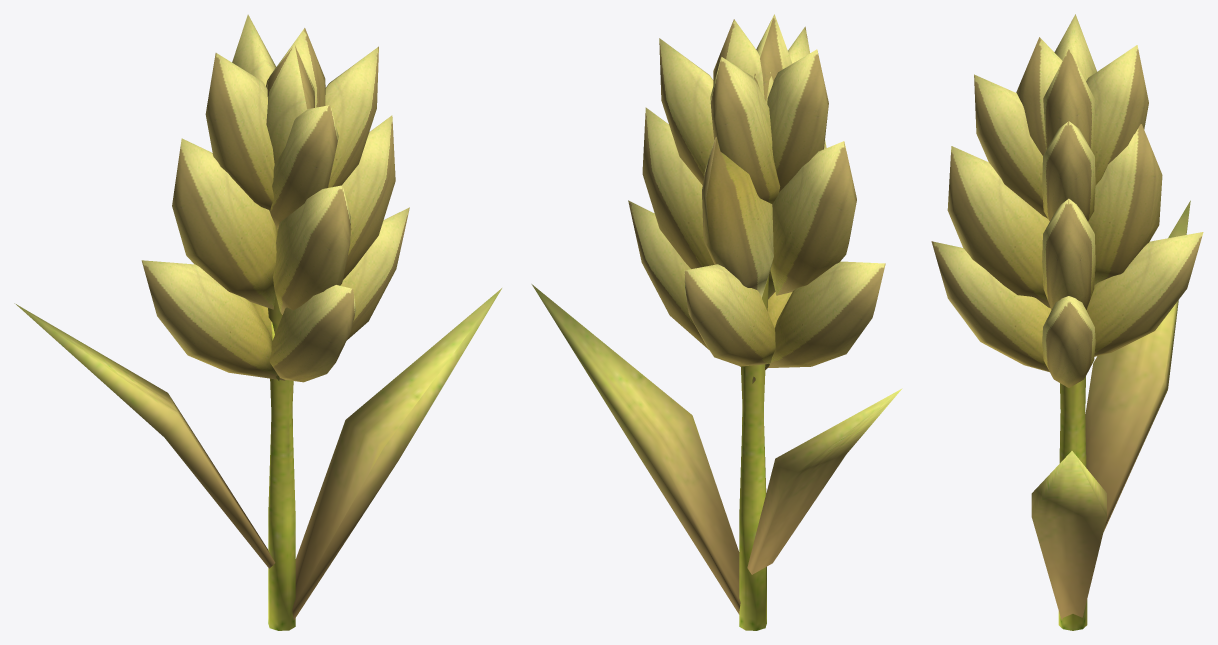
The picture shows the model from 3 angles, left to right: view 1: azimuth 30°, elevation 25°; view 2: azimuth 150°, elevation 25°; view 3: azimuth 270°, elevation 25°; orthographic projection. The views are drawn at different scales.
Visible parts, largest first — view 1: 立方体.002; view 2: 立方体.002; view 3: 立方体.002.
Boxes of the visible parts, x1,y1,x2,y2 form: 立方体.002: (14,14,501,630); 立方体.002: (531,14,902,630); 立方体.002: (931,14,1203,630).
Bounding box in the file's own units: 2.71 × 3.59 × 1.51.
